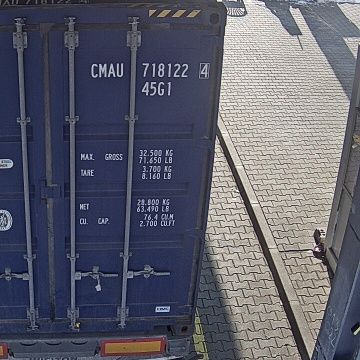serial_id: (91, 63, 208, 77)
